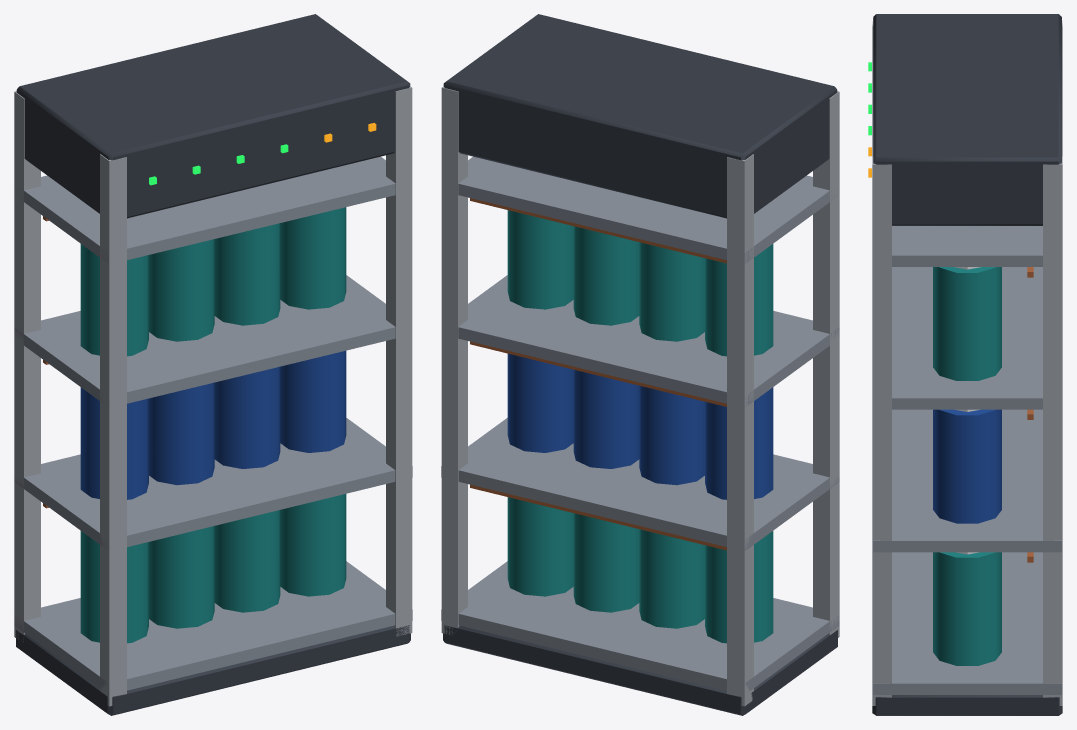
File: capacitor_capacitor_bank_rack.glb
The picture shows the model from 3 angles, left to right: view 1: azimuth 30°, elevation 25°; view 2: azimuth 150°, elevation 25°; view 3: azimuth 270°, elevation 25°; orthographic projection.
Visible parts, largest first — view 1: capacitor_capacitor_bank_rack; view 2: capacitor_capacitor_bank_rack; view 3: capacitor_capacitor_bank_rack.
Part boxes in pixels (left/top/right/bottom): capacitor_capacitor_bank_rack: left=14, top=14, right=412, bottom=715; capacitor_capacitor_bank_rack: left=441, top=14, right=839, bottom=715; capacitor_capacitor_bank_rack: left=868, top=14, right=1062, bottom=715.
Bounding box in the file's own units: 1.11 × 1.96 × 0.619.
